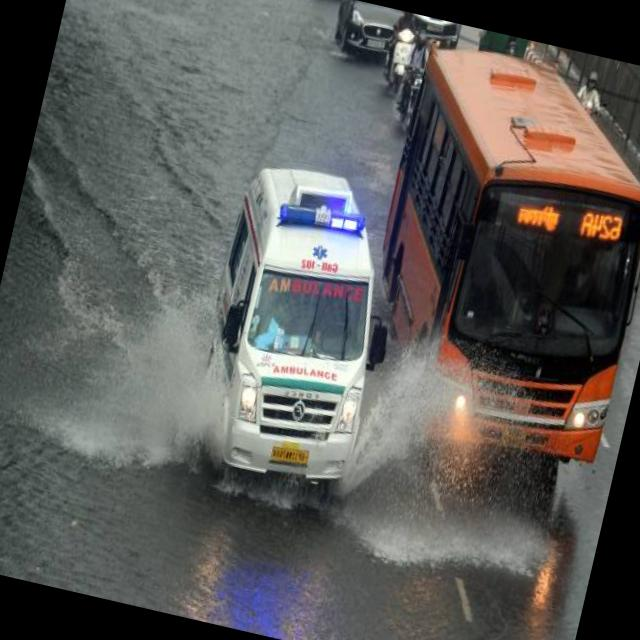ambulance: (216, 173, 370, 489), (266, 190, 370, 284), (259, 248, 368, 332)
